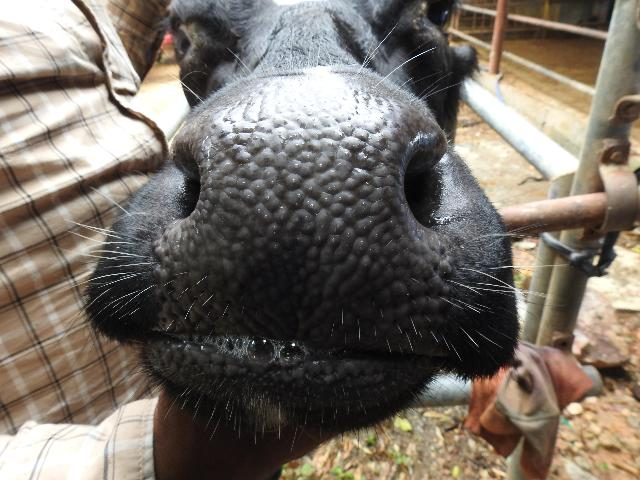Muzzle: (179, 100, 437, 358)
